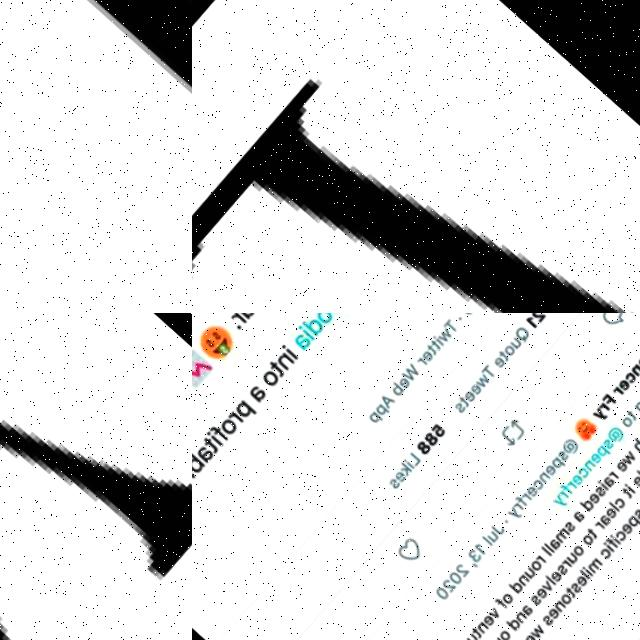0: (425, 580, 442, 596), (438, 565, 455, 580)
1: (466, 536, 480, 550), (520, 313, 536, 322)
2: (432, 571, 450, 589), (445, 556, 462, 573), (525, 313, 543, 317)
3: (458, 542, 475, 559)
5: (423, 417, 442, 435)
8: (416, 426, 435, 444), (409, 434, 427, 452)
D: (192, 0, 640, 313)
J: (0, 0, 192, 313)
N: (0, 313, 192, 640)
